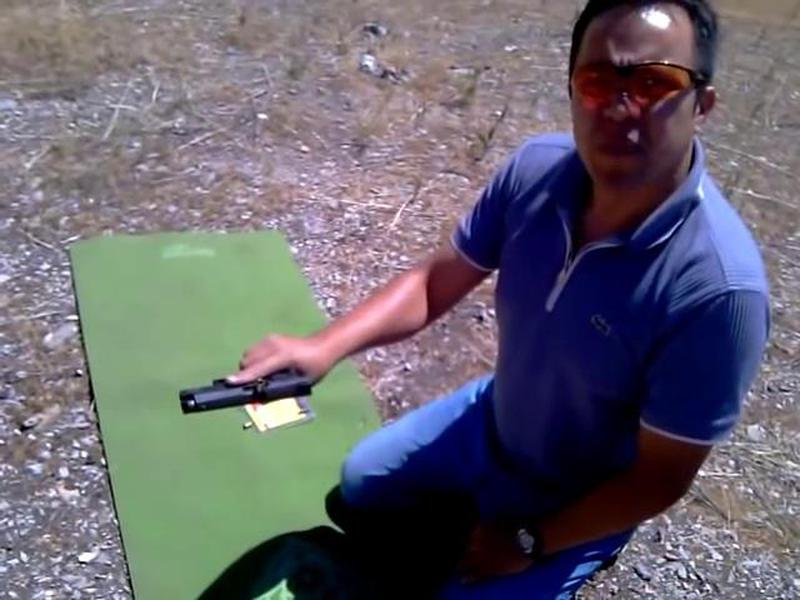Pistola: (166, 318, 315, 449)
